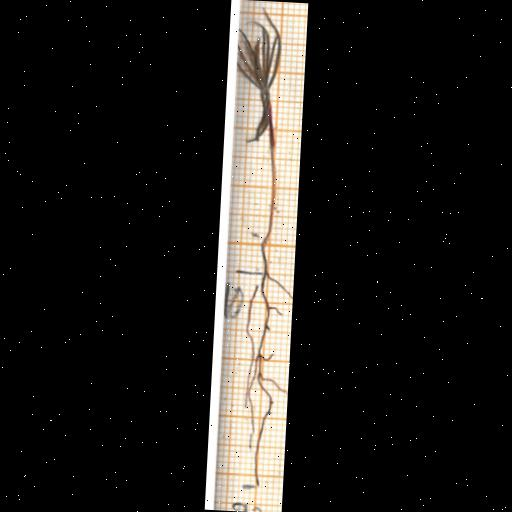flowerPinus: (236, 11, 282, 95)
rootPinus: (245, 239, 289, 485)
stemPinus: (265, 103, 276, 243)
